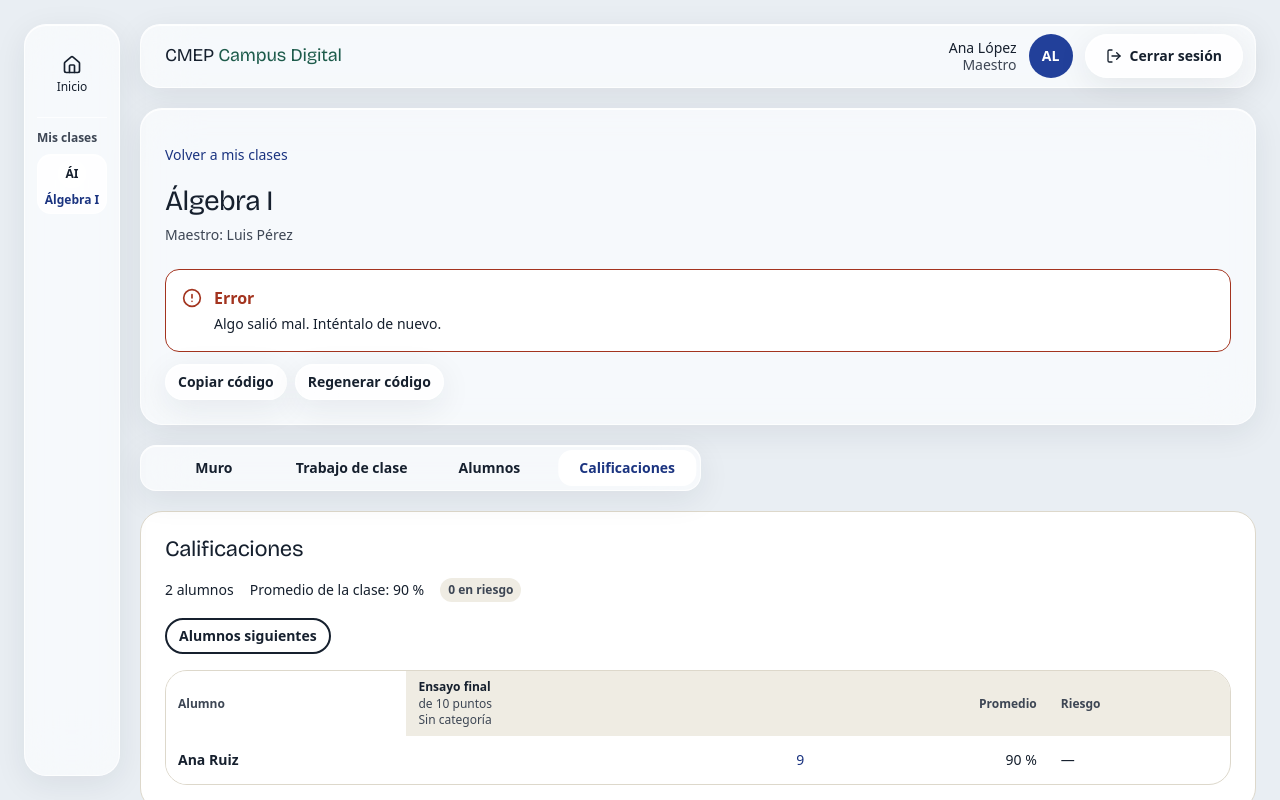
Test: Pulsar la sección activa en StrictMode (main.tsx monta la app así) › CAL-T-253: gradebook en StrictMode con el 400 del cursor: el montaje pide la primera ventana una vez y pulsar la sección la pide una vez más, sin aviso, sin ari
The width and height of the screenshot is (1280, 800).
Click the button "Alumnos siguientes". click: (248, 636)
box: [165,618,331,654]
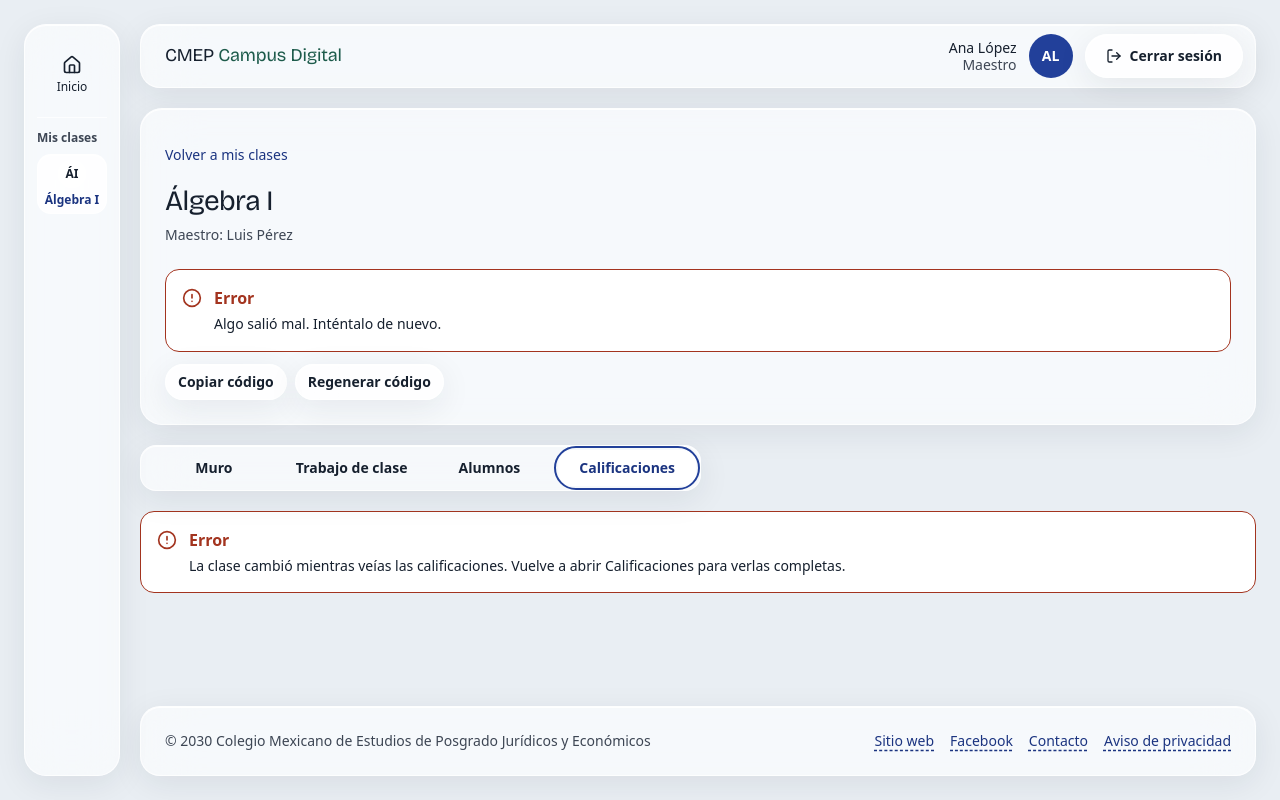
Expected: the text "La clase cambió mientras veías las calificaciones. Vuelve a abrir Calificaciones para verlas completas." is shown, [189,556,845,575]
Click the link "Calificaciones". click: (627, 467)
box: [579,458,675,477]
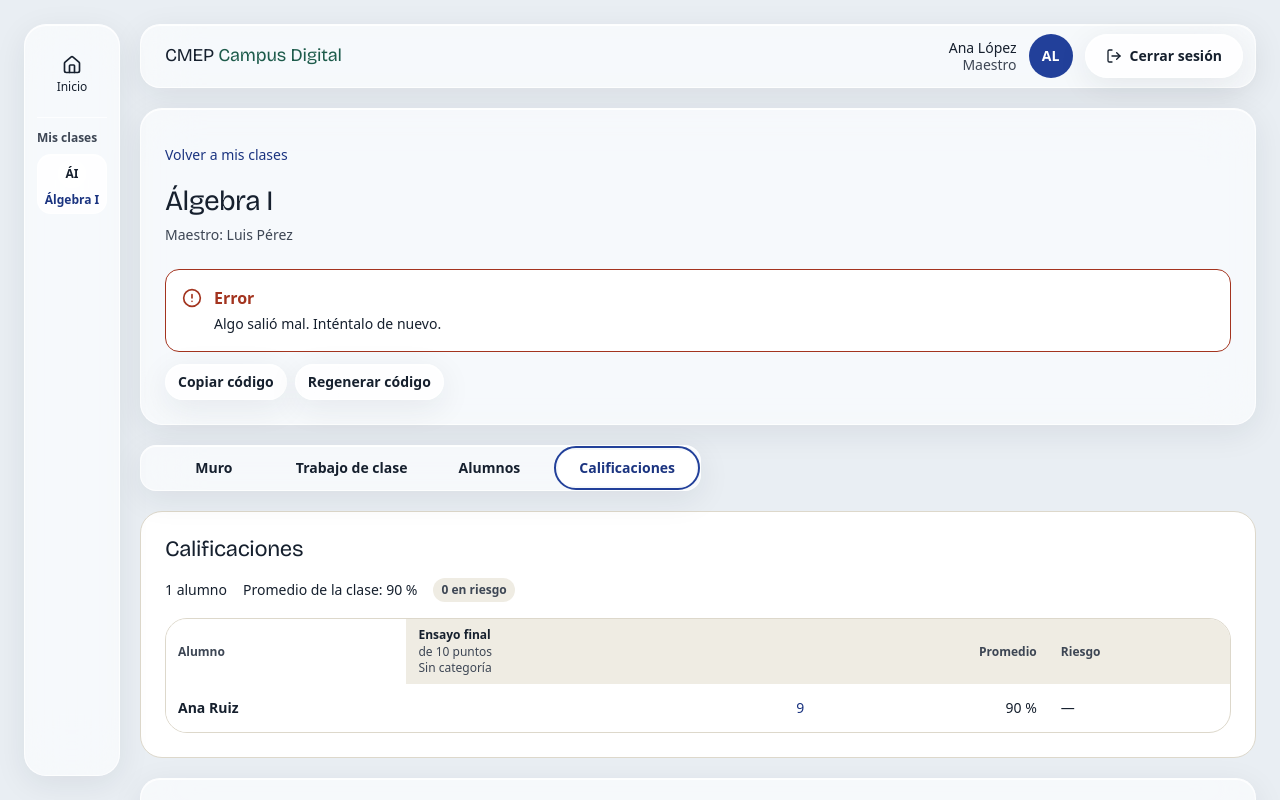
Expected: the text "1 alumno" is shown, [165,580,227,600]
Expected: the text "La clase cambió mientras veías las calificaciones. Vuelve a abrir Calificaciones para verlas completas." is gone
